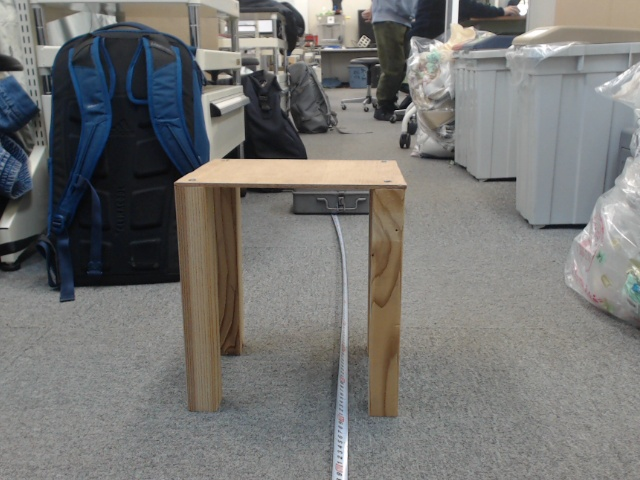desk: (266, 148, 491, 405)
